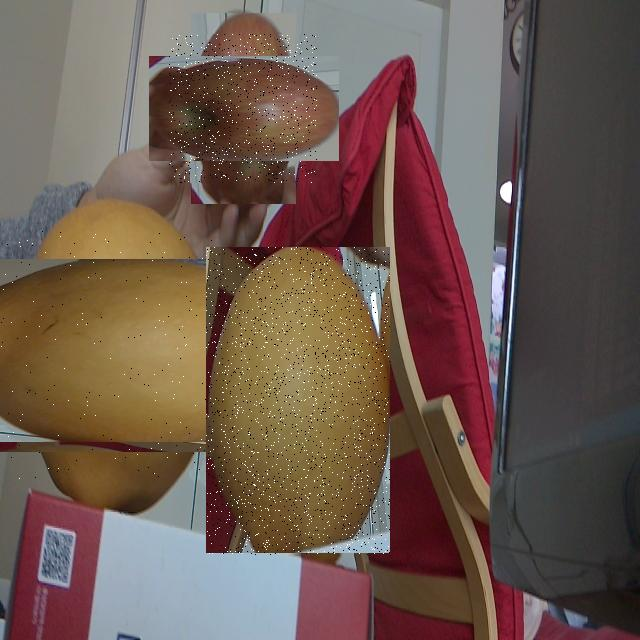apple: (170, 34, 318, 183)
pear: (0, 230, 245, 480), (206, 248, 390, 556)
